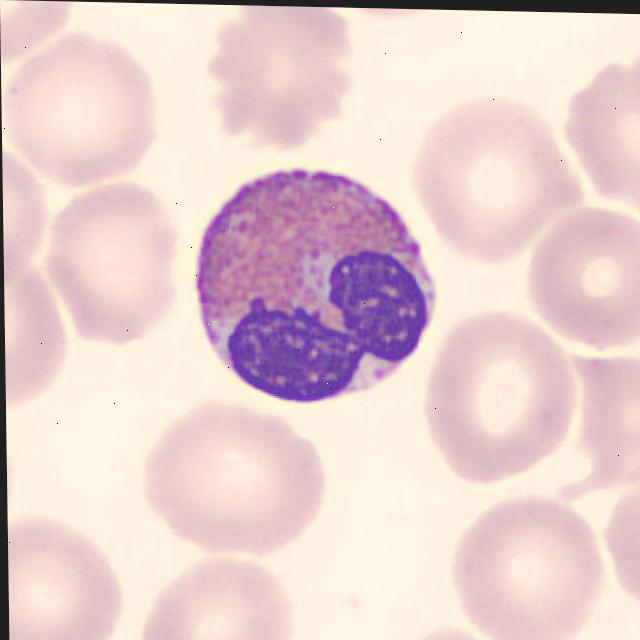eosinophil: (193, 144, 440, 411)
rbc: (416, 87, 584, 263), (147, 403, 331, 559), (428, 312, 577, 482), (5, 26, 158, 190), (208, 5, 363, 157), (52, 177, 187, 348), (452, 492, 604, 640), (520, 213, 640, 363), (8, 514, 132, 640), (561, 45, 640, 218), (138, 559, 301, 640), (4, 268, 78, 428), (572, 364, 640, 511), (2, 146, 55, 300), (0, 0, 82, 72), (603, 488, 640, 622), (412, 631, 490, 640)
